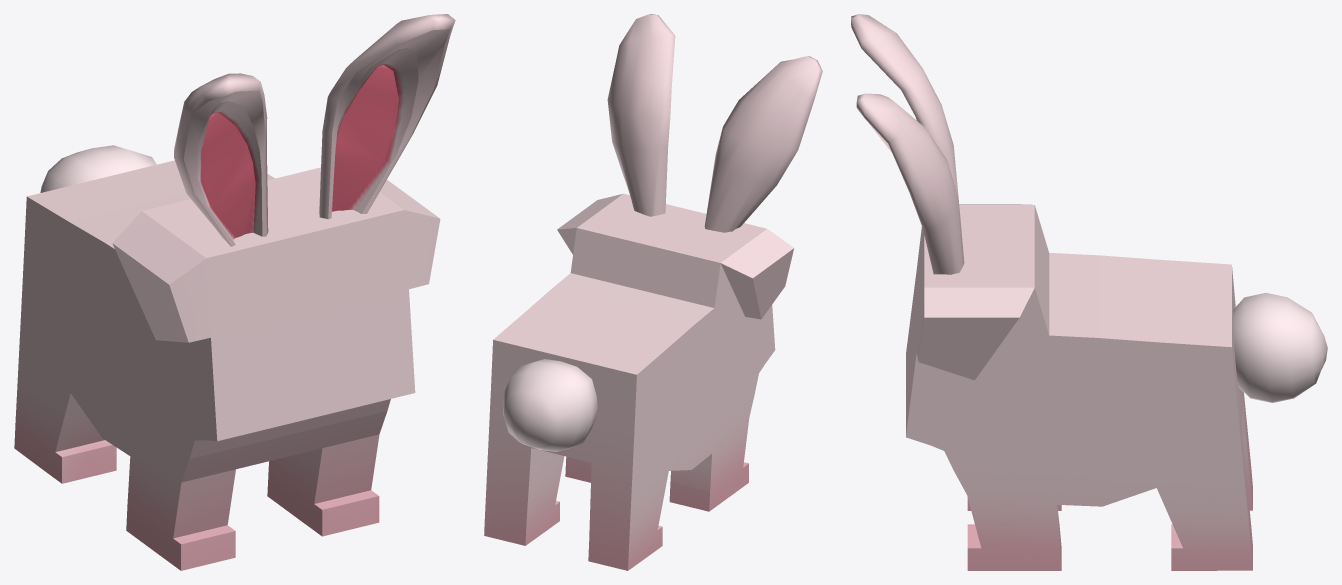
Rendered from bunny_Costume.fbx.
3 renders of one model, left to right at view 1: azimuth 30°, elevation 25°; view 2: azimuth 150°, elevation 25°; view 3: azimuth 270°, elevation 25°, orthographic. The views are drawn at different scales.
Parts seen in each view (by area): view 1: bunny_Costume; view 2: bunny_Costume; view 3: bunny_Costume.
Part boxes in pixels (<box>): bunny_Costume: <box>14,14,455,570</box>; bunny_Costume: <box>484,14,822,570</box>; bunny_Costume: <box>851,14,1327,570</box>.
Bounding box in the file's own units: 2.41 × 4.59 × 4.19.
